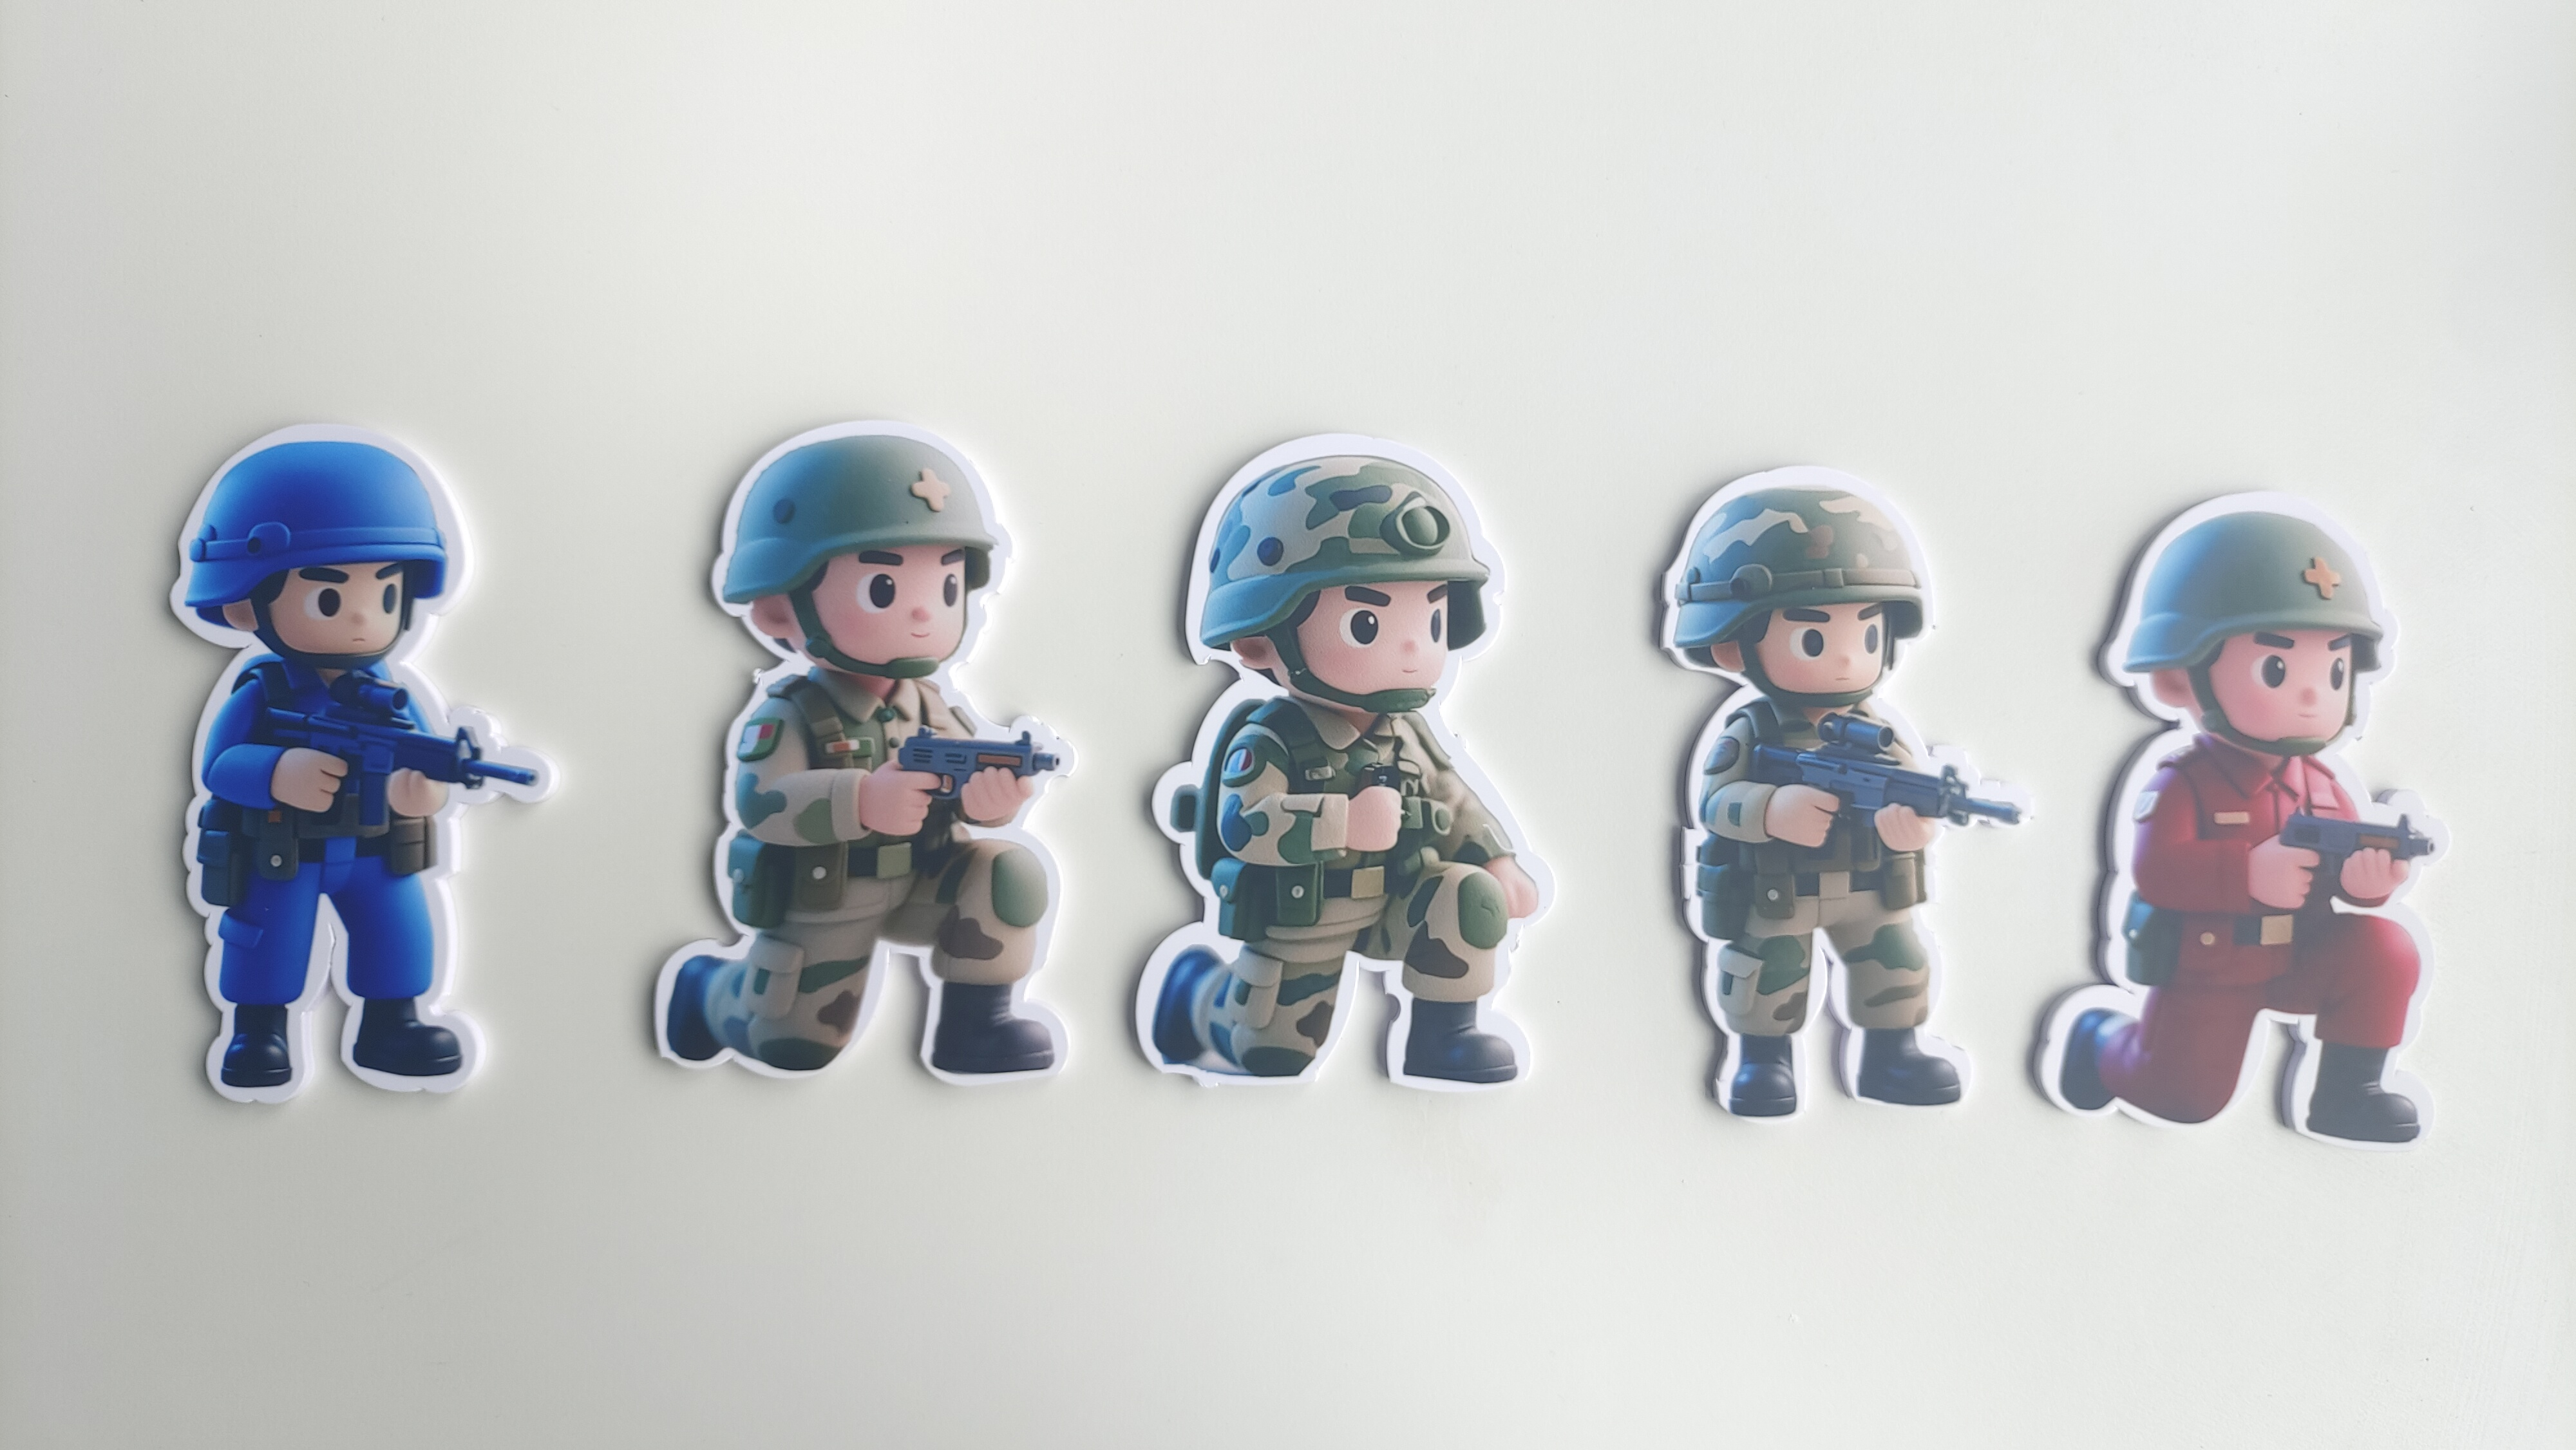enemy1: (2022, 752, 2463, 1158)
enemy2: (173, 658, 520, 1107)
friend: (644, 674, 1077, 1103), (1116, 702, 1557, 1100), (1670, 697, 1980, 1123)
